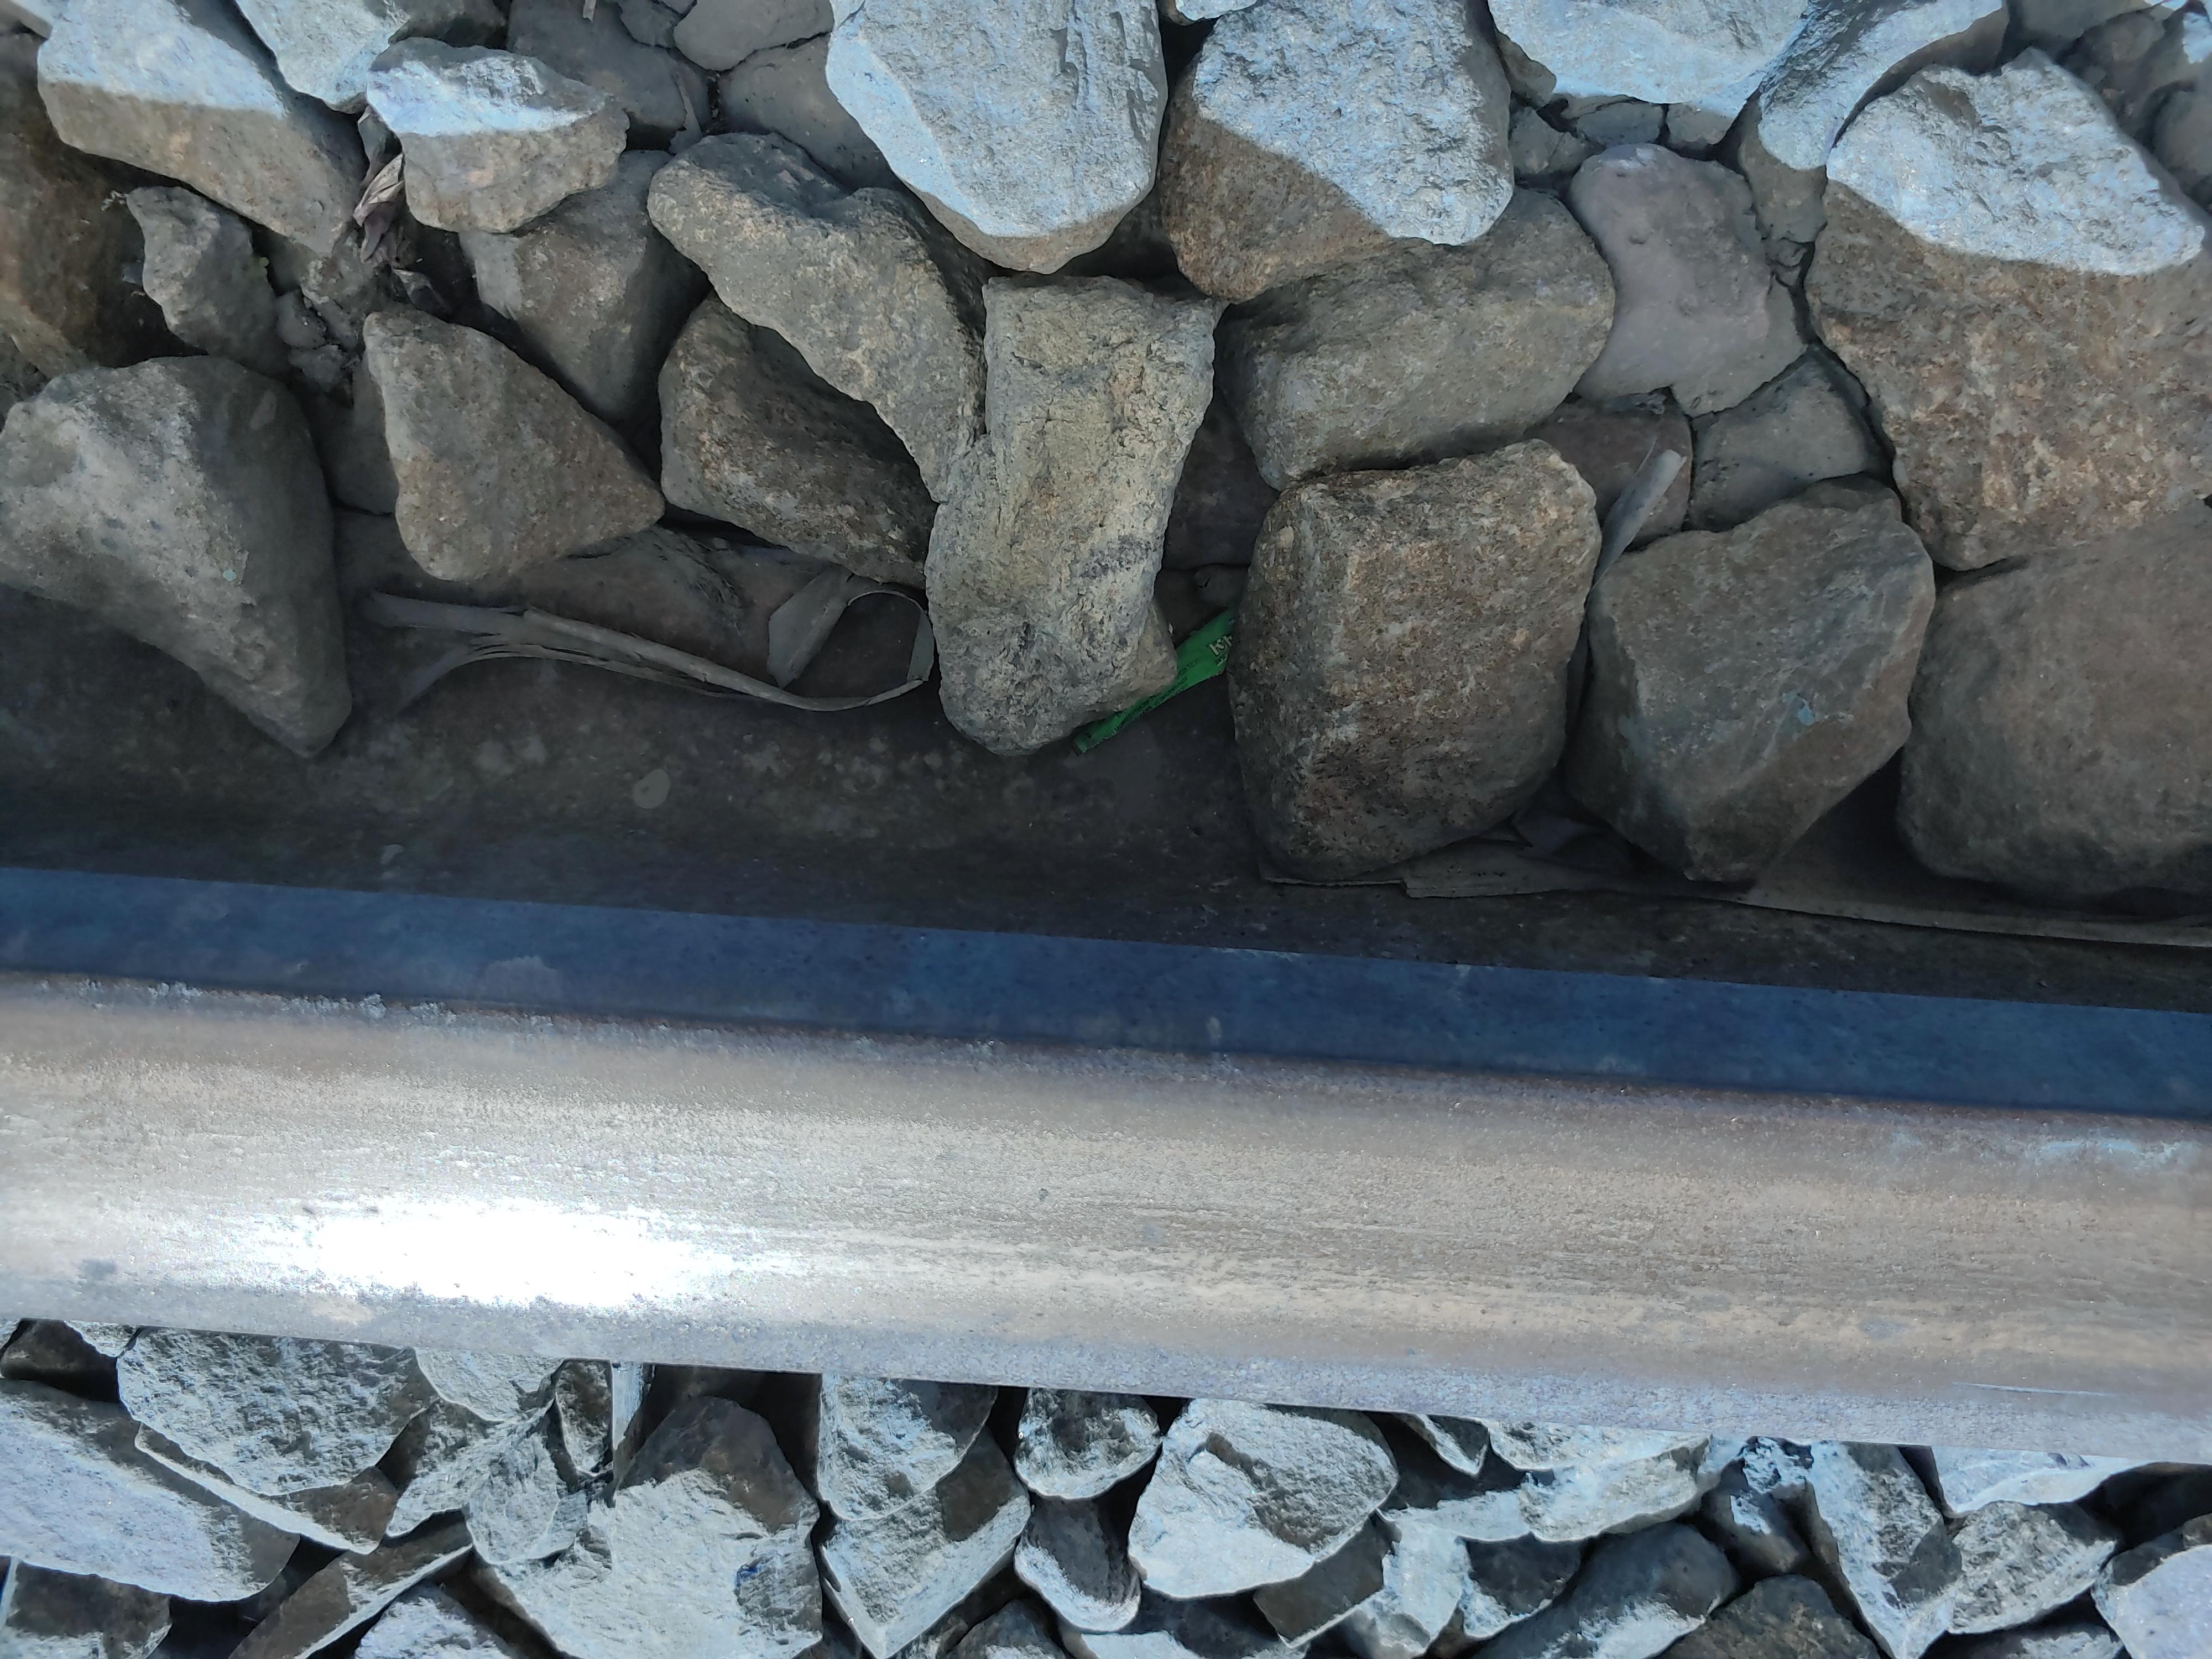error3: (1332, 1169, 1817, 1330)
